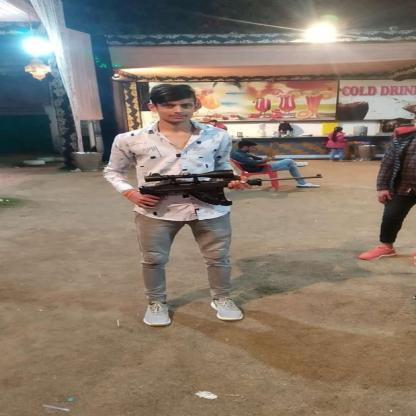rifle: (137, 168, 325, 210)
